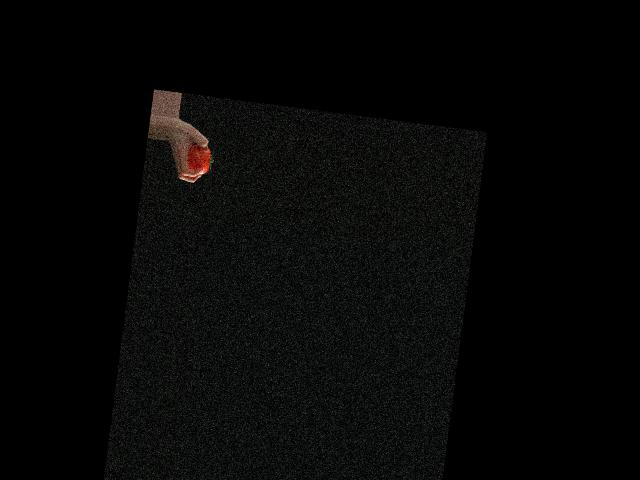tomato: (186, 143, 214, 175)
